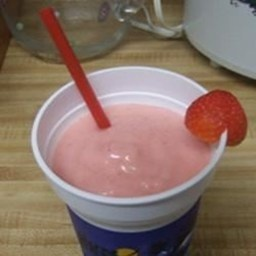background: (21, 35, 99, 78)
